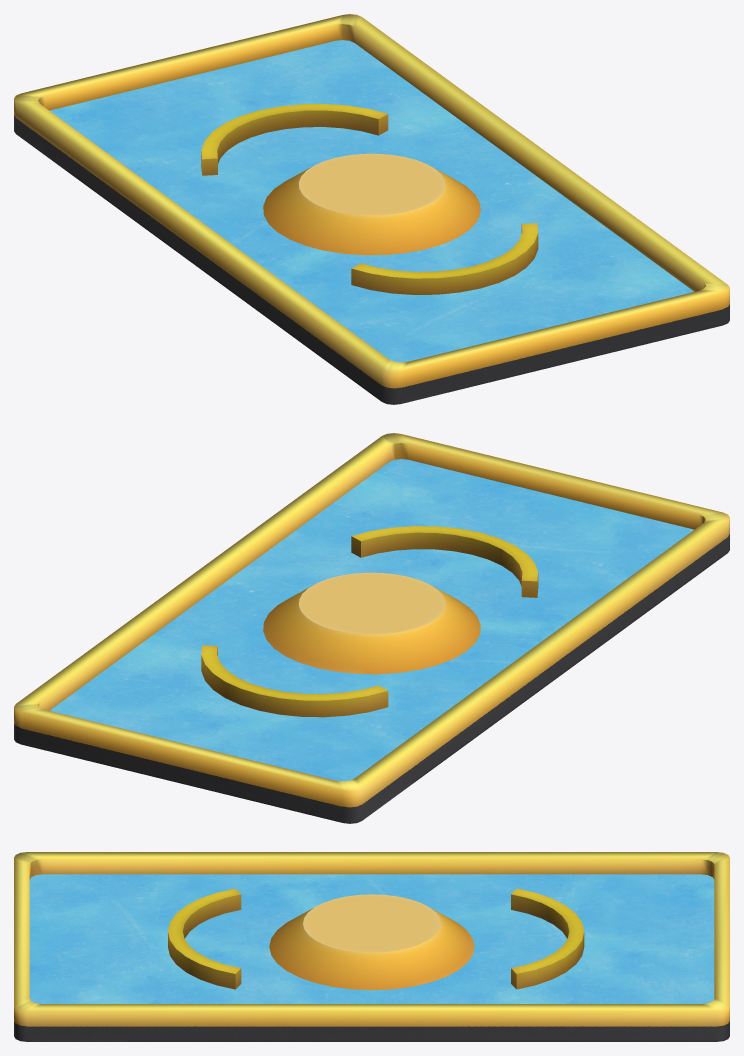
The model's file is platform_6.fbx.
3 views of the same model, one above another, from view 1: azimuth 30°, elevation 25°; view 2: azimuth 150°, elevation 25°; view 3: azimuth 270°, elevation 25° (orthographic). The views are drawn at different scales.
Visible parts, largest first — view 1: Plane.014, Plane.013, Cylinder.007, Cylinder.020, Cylinder.008; view 2: Plane.014, Plane.013, Cylinder.007, Cylinder.020, Cylinder.008; view 3: Plane.014, Plane.013, Cylinder.007, Cylinder.020, Cylinder.008.
Boxes of the visible parts, left/top/right/bottom form: Plane.014: left=14, top=40, right=729, bottom=404; Plane.013: left=14, top=14, right=729, bottom=388; Cylinder.007: left=263, top=153, right=480, bottom=255; Cylinder.020: left=351, top=223, right=538, bottom=294; Cylinder.008: left=201, top=104, right=388, bottom=175; Plane.014: left=14, top=459, right=729, bottom=823; Plane.013: left=14, top=433, right=729, bottom=807; Cylinder.007: left=263, top=572, right=480, bottom=674; Cylinder.020: left=351, top=526, right=538, bottom=597; Cylinder.008: left=201, top=645, right=388, bottom=717; Plane.014: left=14, top=874, right=729, bottom=1041; Plane.013: left=14, top=852, right=729, bottom=1026; Cylinder.007: left=269, top=894, right=474, bottom=990; Cylinder.020: left=168, top=888, right=241, bottom=989; Cylinder.008: left=511, top=888, right=584, bottom=989.
Bounding box in the file's own units: 4400 × 500 × 8362.
